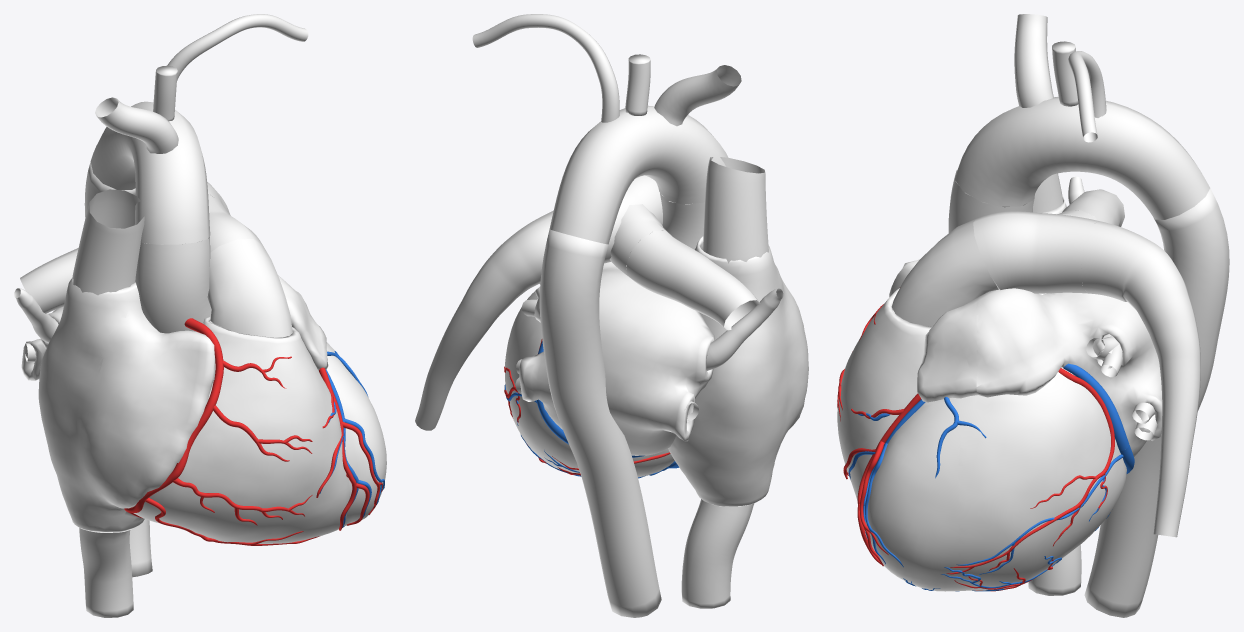
Rendered from human-heart.glb.
3 views of the same model, side by side, from view 1: azimuth 30°, elevation 25°; view 2: azimuth 150°, elevation 25°; view 3: azimuth 270°, elevation 25° (orthographic). The views are drawn at different scales.
Parts seen in each view (by area): view 1: heart-right-atrium, heart-right-ventricle, heart-aortic-arch, heart-pulmonary-trunk, heart-ascending-aorta, heart-superior-vena-cava, heart-right-coronary-artery, heart-left-ventricle, heart-inferior-vena-cava-thoracic-part, heart-brachiocephalic-trunk, heart-left-atrium, heart-left-subclavian-artery (+7 smaller); view 2: heart-thoracic-aorta, heart-right-atrium, heart-left-atrium, heart-aortic-arch, heart-left-pulmonary-artery, heart-right-pulmonary-artery, heart-superior-vena-cava, heart-inferior-vena-cava-thoracic-part, heart-left-ventricle, heart-left-subclavian-artery, heart-bifurcation-of-pulmonary-trunk, heart-brachiocephalic-trunk (+3 smaller); view 3: heart-left-ventricle, heart-left-atrium, heart-aortic-arch, heart-thoracic-aorta, heart-left-pulmonary-artery, heart-right-ventricle, heart-bifurcation-of-pulmonary-trunk, heart-pulmonary-trunk, heart-brachiocephalic-trunk, heart-great-cardiac-vein, heart-left-subclavian-artery, heart-circumflex-artery-of-heart (+10 smaller).
Boxes of the visible parts, x1,y1,x2,y2 form: heart-right-atrium: (38,277,215,532); heart-right-ventricle: (127,317,349,543); heart-aortic-arch: (90,101,210,244); heart-pulmonary-trunk: (207,239,292,337); heart-ascending-aorta: (135,236,211,333); heart-superior-vena-cava: (72,189,144,295); heart-right-coronary-artery: (124,318,319,545); heart-left-ventricle: (326,342,386,526); heart-inferior-vena-cava-thoracic-part: (79,528,133,617); heart-brachiocephalic-trunk: (95,97,178,153); heart-left-atrium: (21,275,328,380); heart-left-subclavian-artery: (167,14,308,80); heart-thoracic-aorta: (539,229,661,617); heart-right-atrium: (668,236,808,506); heart-left-atrium: (519,262,714,455); heart-aortic-arch: (549,105,728,244); heart-left-pulmonary-artery: (415,210,553,430); heart-right-pulmonary-artery: (626,230,760,330); heart-superior-vena-cava: (702,157,768,263); heart-inferior-vena-cava-thoracic-part: (681,499,754,608); heart-left-ventricle: (505,291,674,477); heart-left-subclavian-artery: (472,14,619,122); heart-bifurcation-of-pulmonary-trunk: (604,175,673,276); heart-brachiocephalic-trunk: (654,65,741,126); heart-left-ventricle: (865,367,1126,591); heart-left-atrium: (917,287,1162,456); heart-aortic-arch: (955,96,1210,219); heart-thoracic-aorta: (1084,188,1229,617); heart-left-pulmonary-artery: (1081,221,1200,537); heart-right-ventricle: (837,288,931,500); heart-bifurcation-of-pulmonary-trunk: (973,210,1099,293); heart-pulmonary-trunk: (891,218,998,326); heart-brachiocephalic-trunk: (1014,14,1053,107); heart-great-cardiac-vein: (848,363,1129,567); heart-left-subclavian-artery: (1068,51,1106,142); heart-circumflex-artery-of-heart: (946,368,1114,574).
Bounding box in the file's own units: 0.135 × 0.2212 × 0.1307.
